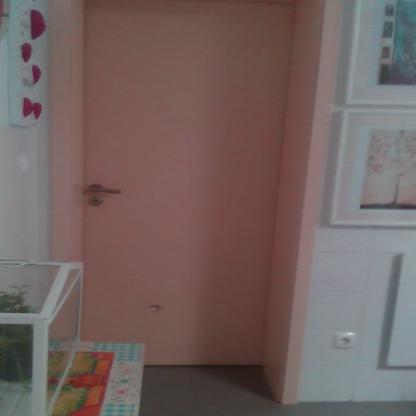door: (88, 0, 276, 370)
lever: (89, 185, 124, 199)
